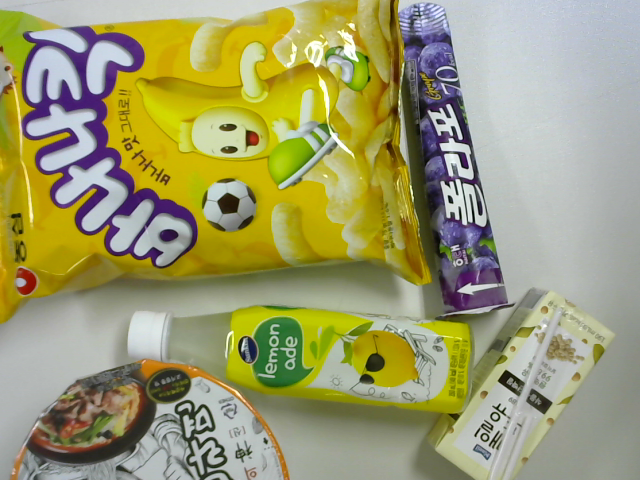99.89_Soymilk: (431, 290, 619, 480)
Banana_Kick: (5, 2, 429, 302)
Hejangchan: (13, 358, 293, 480)
Polapo_Grape: (395, 6, 509, 320)
Sunkist_Lemonaid_Pet: (123, 298, 471, 420)
